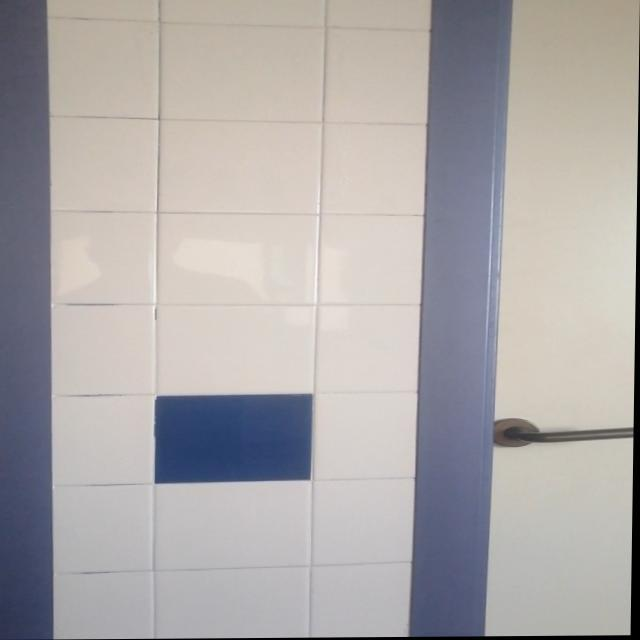door_handle: (503, 421, 635, 446)
